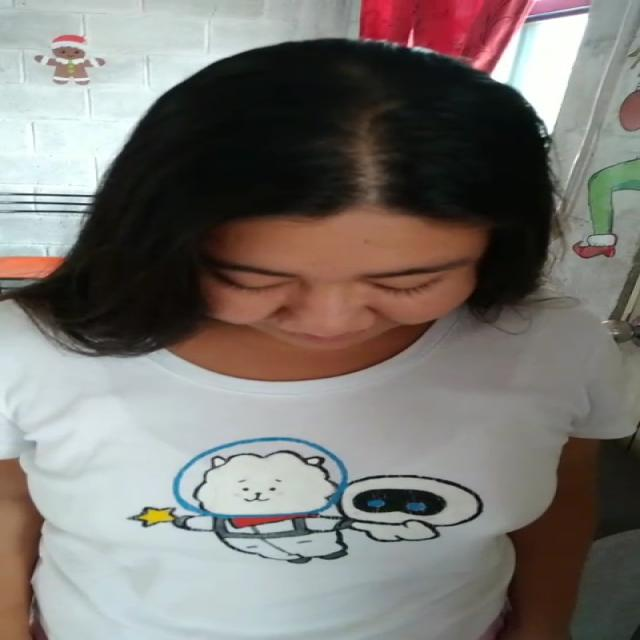9_cabeza_baja: (86, 38, 556, 352)
